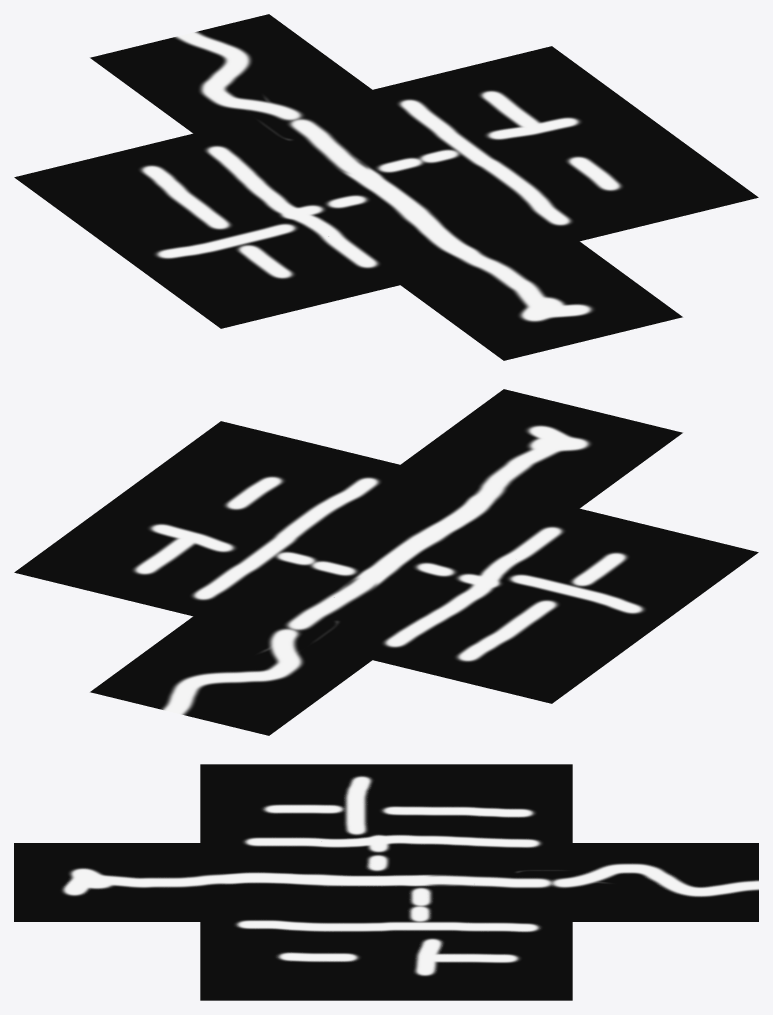
The model's file is formica map 1 test.glb.
The picture shows the model from 3 angles, top to bottom: view 1: azimuth 30°, elevation 25°; view 2: azimuth 150°, elevation 25°; view 3: azimuth 270°, elevation 25°; orthographic projection. The views are drawn at different scales.
Parts seen in each view (by area): view 1: Plane.012; view 2: Plane.012; view 3: Plane.012.
Boxes of the visible parts, <box> form: Plane.012: <box>14,14,758,360</box>; Plane.012: <box>14,389,758,735</box>; Plane.012: <box>14,764,758,1000</box>.
Bounding box in the file's own units: 300 × 0 × 400.
Materials: 1 (1 with a texture image).
